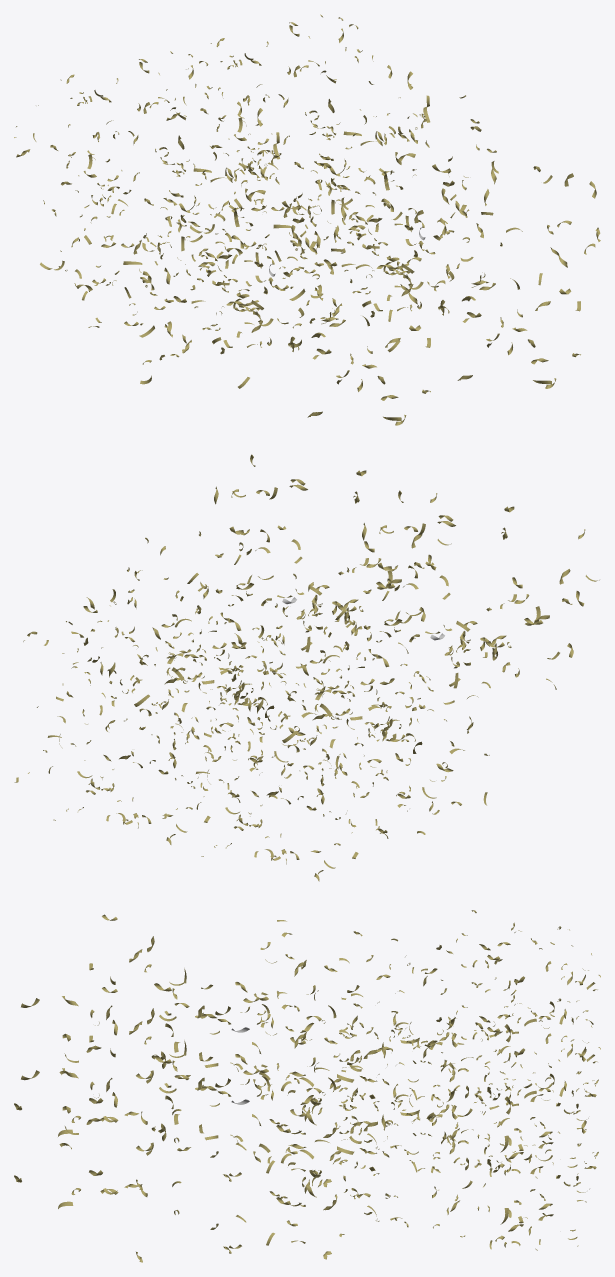
Rendered from weapon_2_1_confetti_339sec.glb.
The picture shows the model from 3 angles, top to bottom: view 1: azimuth 30°, elevation 25°; view 2: azimuth 150°, elevation 25°; view 3: azimuth 270°, elevation 25°; orthographic projection.
Bounding box in the file's own units: 7.22 × 4.11 × 10.49.
